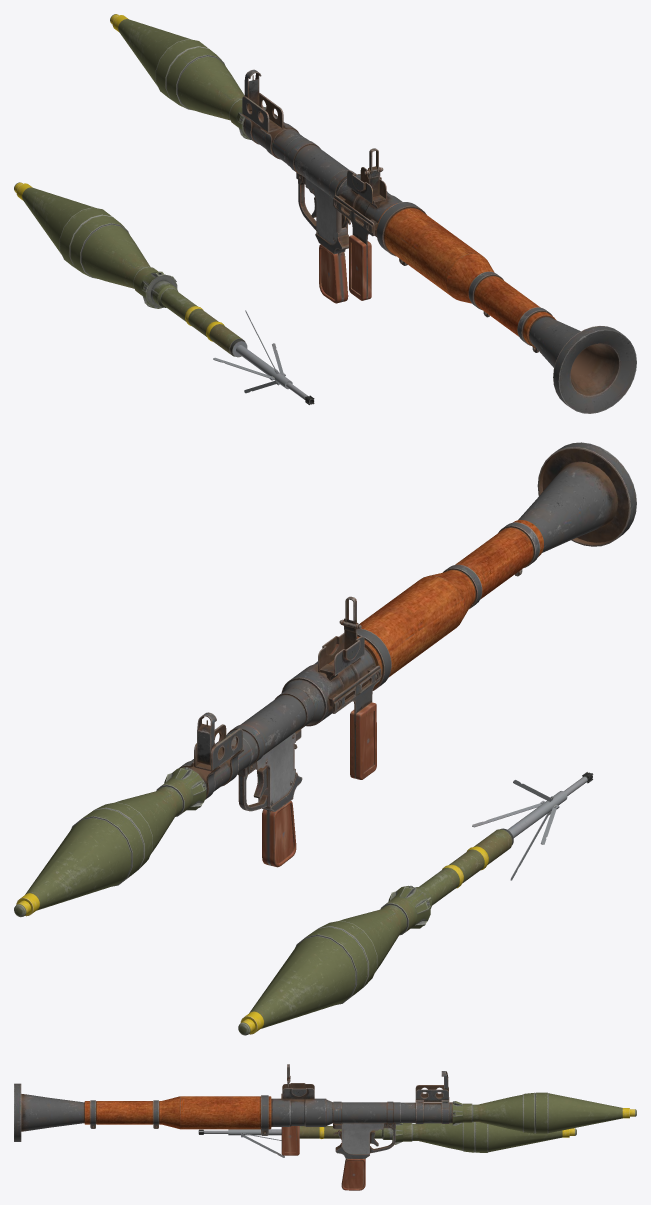
File: rpg7.glb
3 views of the same model, one above another, from view 1: azimuth 30°, elevation 25°; view 2: azimuth 150°, elevation 25°; view 3: azimuth 270°, elevation 25° (orthographic). The views are drawn at different scales.
Parts seen in each view (by area): view 1: body, rocket_flight, rocket; view 2: body, rocket_flight, rocket; view 3: body, rocket, rocket_flight.
Boxes of the visible parts, bbox=[...] form: body: bbox=[240, 69, 636, 413]; rocket_flight: bbox=[14, 182, 314, 404]; rocket: bbox=[110, 14, 266, 139]; body: bbox=[179, 442, 636, 867]; rocket_flight: bbox=[238, 772, 593, 1035]; rocket: bbox=[14, 767, 206, 917]; body: bbox=[14, 1064, 452, 1190]; rocket: bbox=[452, 1092, 636, 1133]; rocket_flight: bbox=[198, 1122, 576, 1157].
Size of what is drawn, in the model's own units: 0.3414 by 0.3219 by 1.35.
2 materials, 2 textured.
